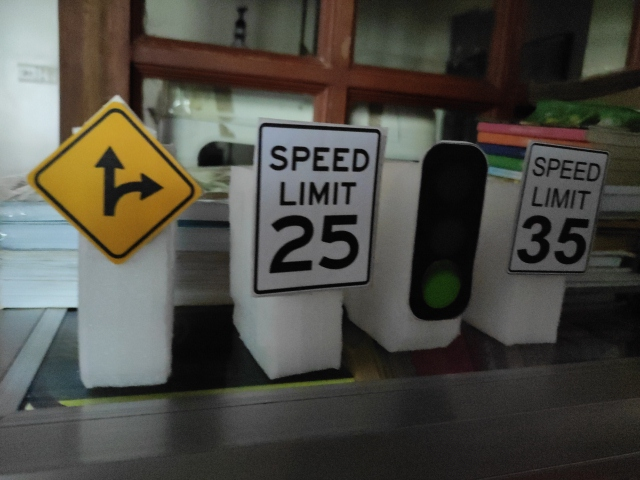Green Traffic Light: (409, 141, 489, 319)
Speed Limit 25: (255, 120, 382, 295)
Speed Limit 35: (507, 142, 610, 275)
Straight Or Right Sign: (31, 106, 203, 264)
